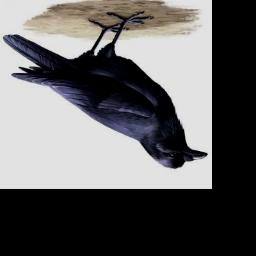Crow: (2, 8, 208, 169)
